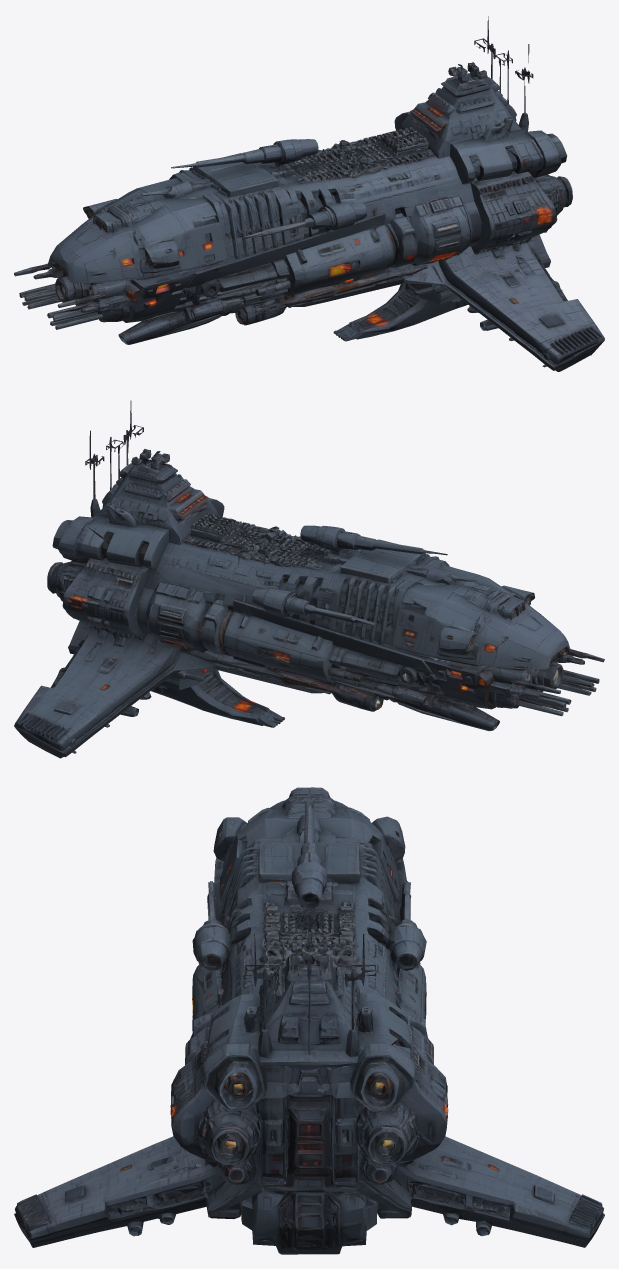
The model's file is Meshy_AI_Vitarix_Fast_assault__1101133649_texture.glb.
3 views of the same model, one above another, from view 1: azimuth 30°, elevation 25°; view 2: azimuth 150°, elevation 25°; view 3: azimuth 270°, elevation 25° (orthographic). The views are drawn at different scales.
Visible parts, largest first — view 1: output_unwrapped; view 2: output_unwrapped; view 3: output_unwrapped.
Boxes of the visible parts, x1=… form: output_unwrapped: x1=14, y1=16, x2=604, y2=371; output_unwrapped: x1=14, y1=400, x2=604, y2=758; output_unwrapped: x1=14, y1=787, x2=604, y2=1254.
Bounding box in the file's own units: 1.9 × 0.9771 × 1.46.
1 material, 1 textured.
